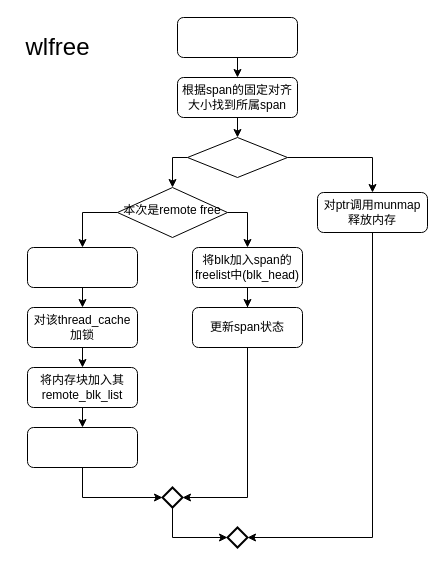
Image size: 445x566. Some labels were removed from this diagram. Here are the shapes that lost their labels. From the top down, the box of each, then its label:
(176, 16, 298, 58): 需要释放指针ptr的内存
(186, 136, 288, 178): span属于小内存
(26, 246, 138, 288): 找到span的owner线程的thread_cache
(26, 426, 138, 468): 释放锁
